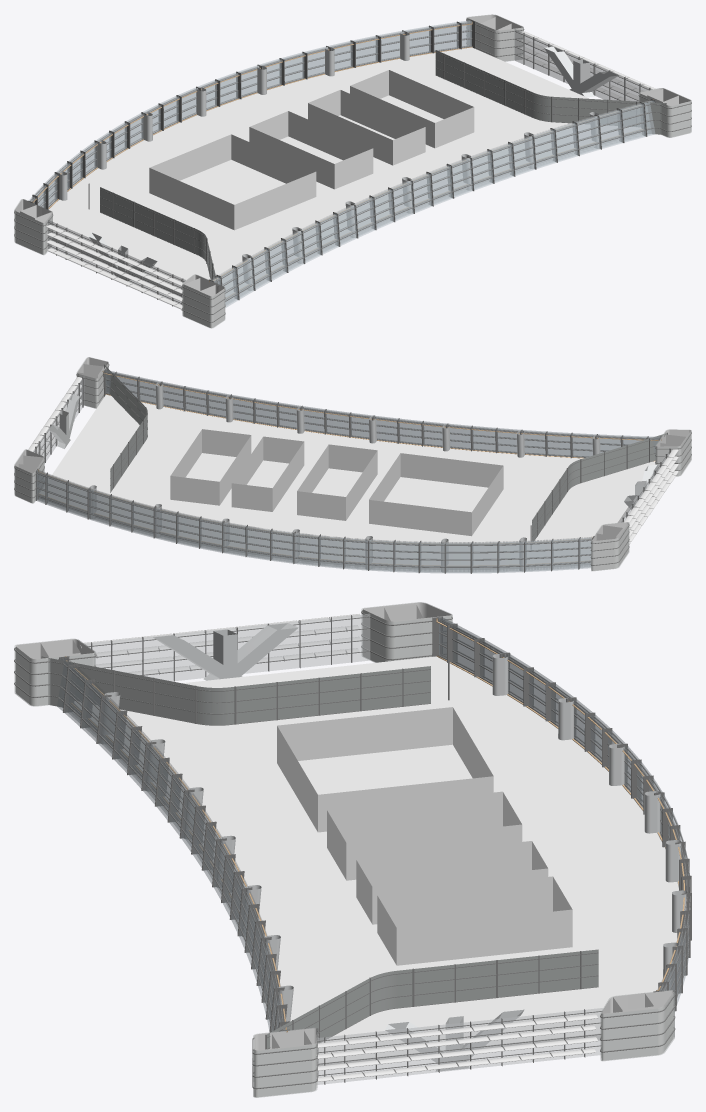
3 renders of one model, top to bottom at view 1: azimuth 30°, elevation 25°; view 2: azimuth 150°, elevation 25°; view 3: azimuth 270°, elevation 25°, orthographic. The views are drawn at different scales.
Visible parts, largest first — view 1: floor.043; view 2: floor.043; view 3: floor.043.
Part boxes in pixels (bbox=[...]): floor.043: bbox=[14, 14, 691, 328]; floor.043: bbox=[14, 357, 691, 573]; floor.043: bbox=[14, 602, 691, 1097].
Bounding box in the file's own units: 82.03 × 4 × 52.31.
Materials: 14 (1 with a texture image).
